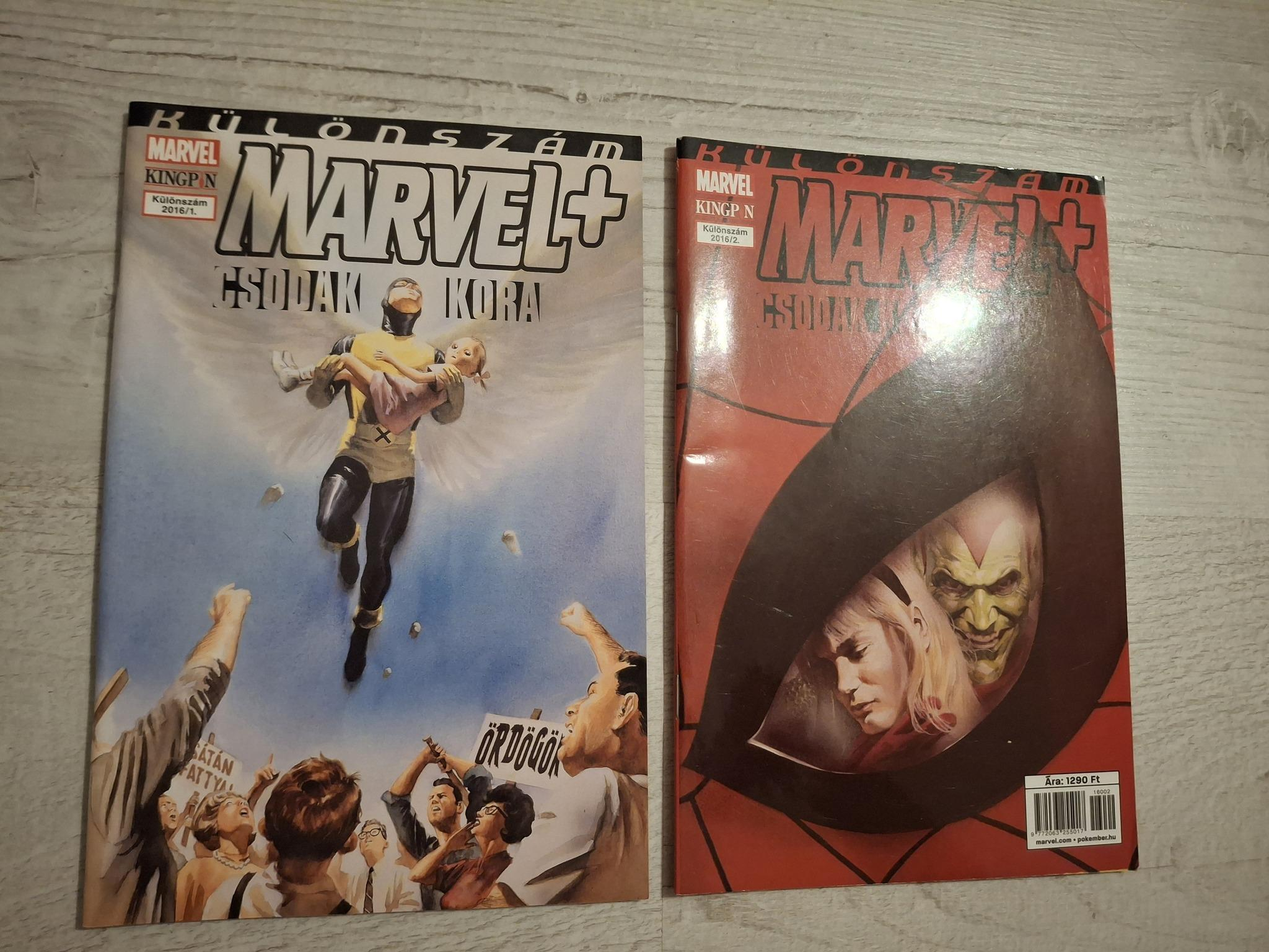comic: (82, 102, 678, 948), (674, 138, 1135, 893)
